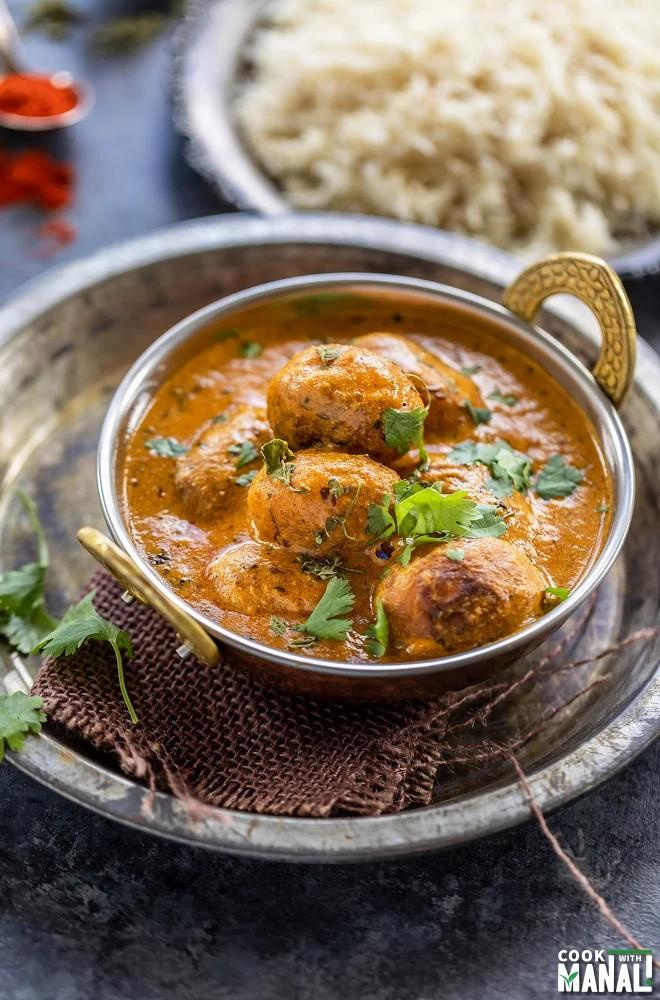DumAloo: (119, 306, 611, 657)
